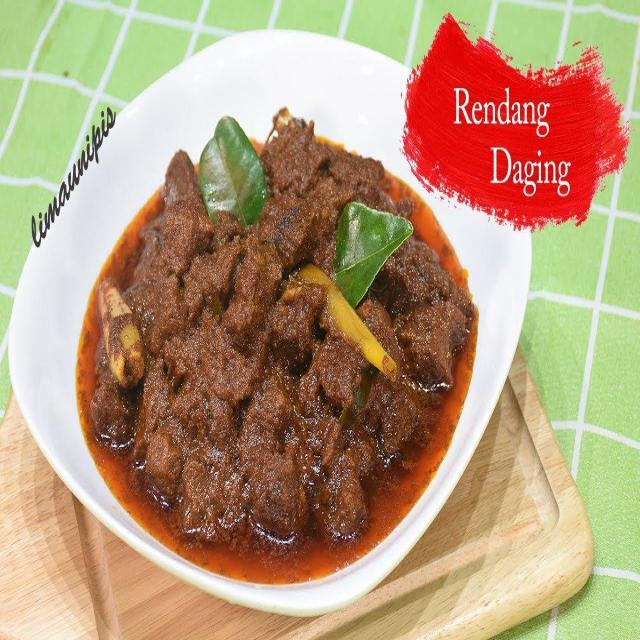Rendang: (101, 124, 471, 574)
